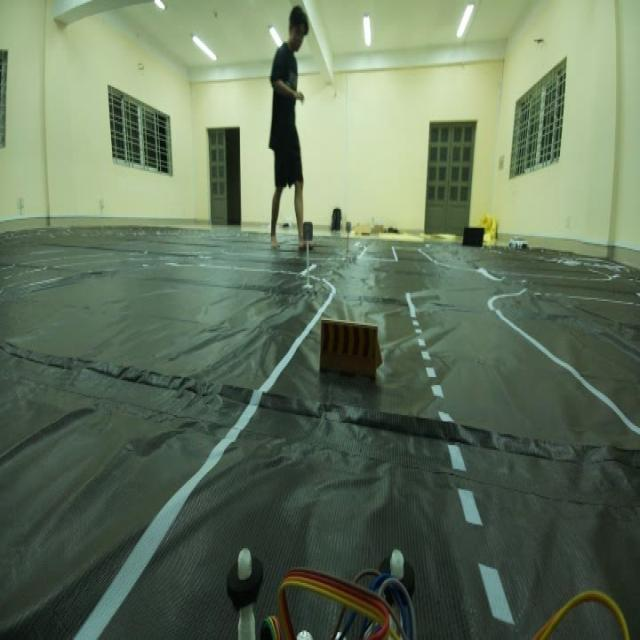roadblock: (314, 314, 389, 396)
